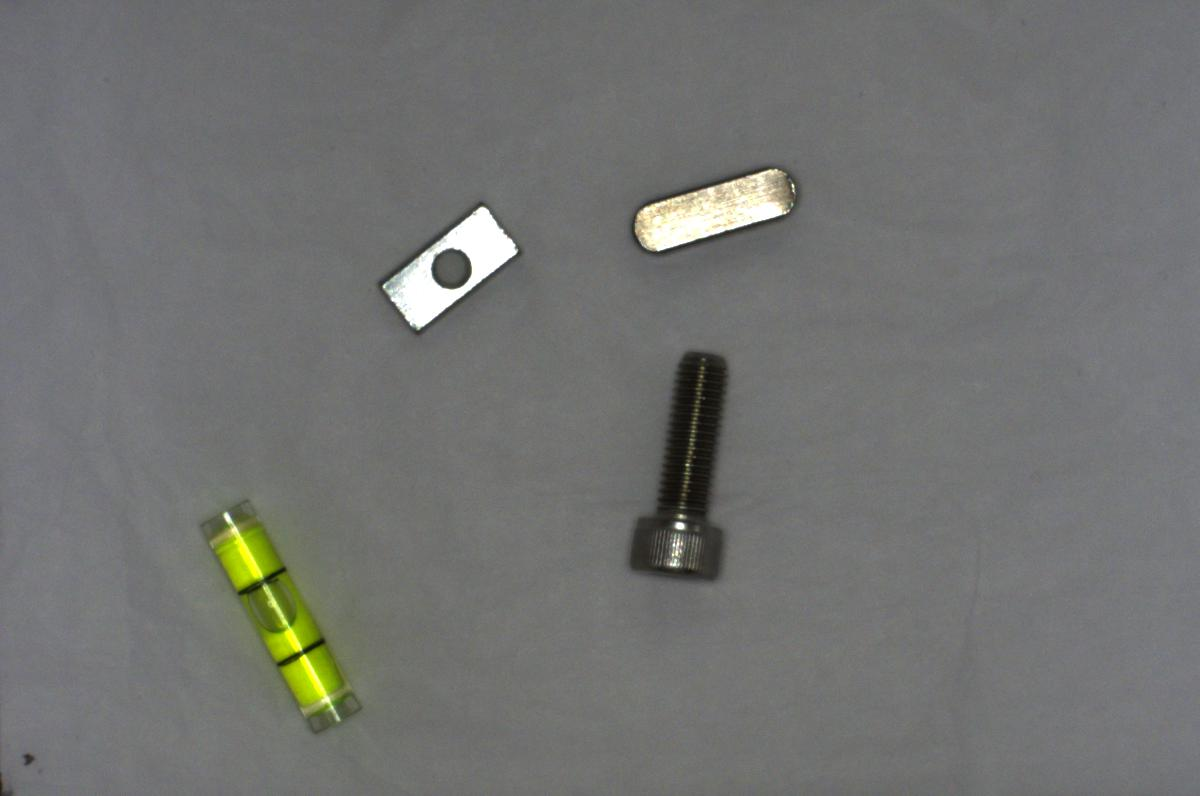Hexagon screw: (610, 339, 742, 592)
Horizontal bubble: (200, 494, 370, 736)
Keybar: (619, 159, 805, 260)
Rectangular nut: (368, 196, 520, 333)
